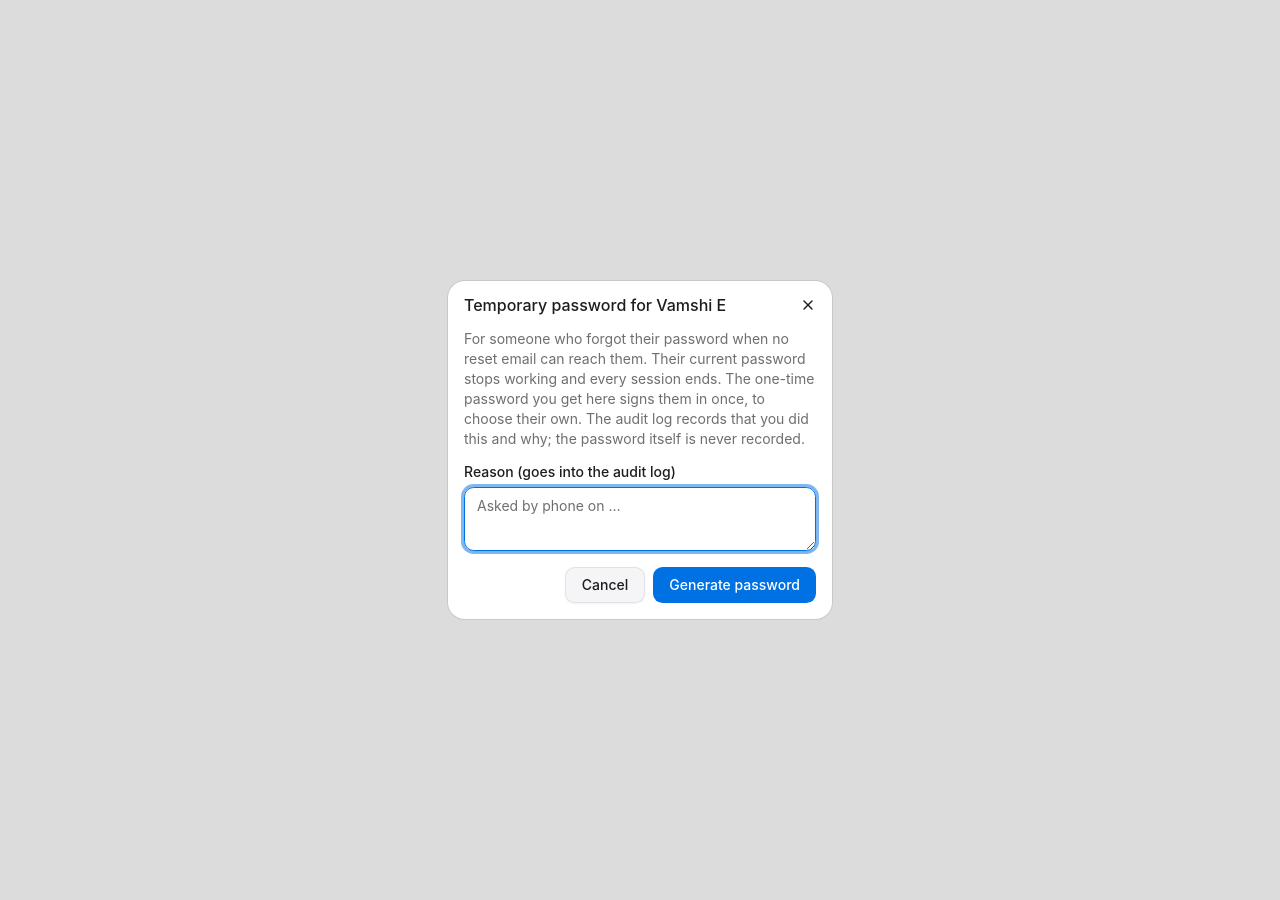
Scenario: TemporaryPasswordDialog › asks for a reason, generates once, and shows the password with its expiry
The image size is (1280, 900).
Expected: the heading "Temporary password for Vamshi E" is shown, left=464, top=295, right=726, bottom=315
Type "asked by phone" into the text box labelled "Reason (goes into the audit log)" at (640, 519), box left=464, top=487, right=816, bottom=551
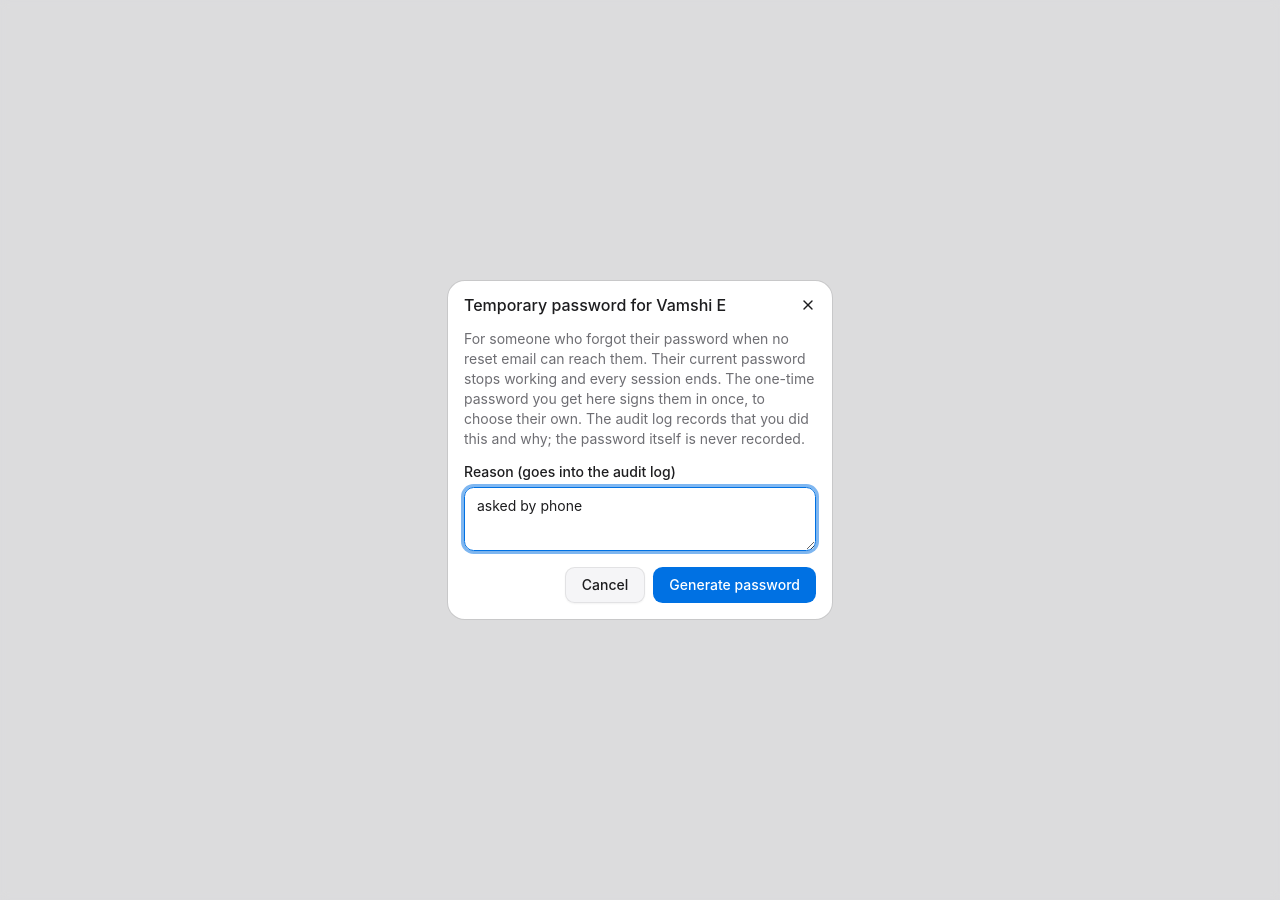
Click the button "Generate password" at (735, 585), box left=653, top=567, right=816, bottom=603
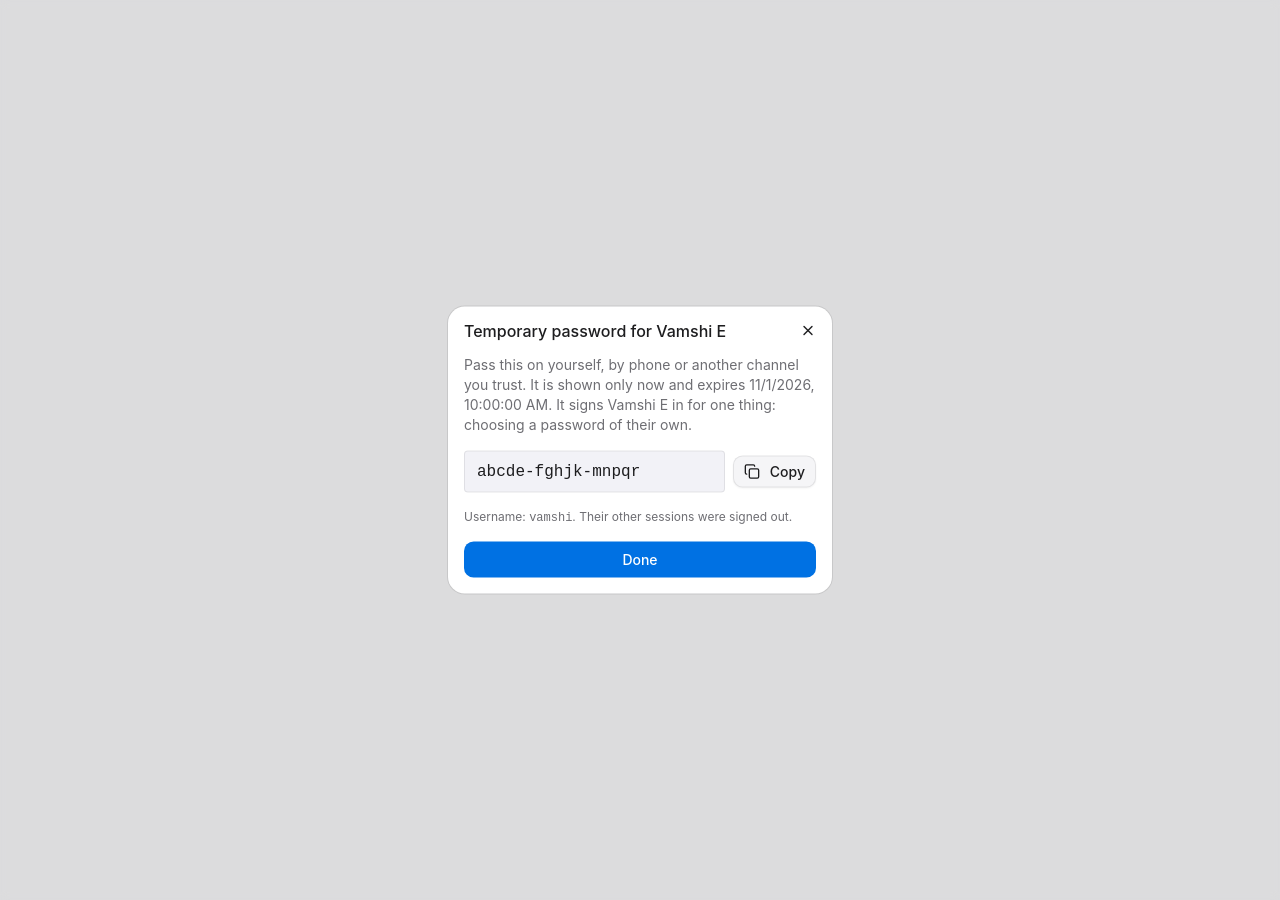
Expected: the text with test id "temporary-password" reads "abcde-fghjk-mnpqr", left=477, top=462, right=640, bottom=480
Expected: the text "shown only now" is shown, left=464, top=356, right=799, bottom=392
Expected: the text "vamshi" is shown, left=529, top=510, right=572, bottom=524
